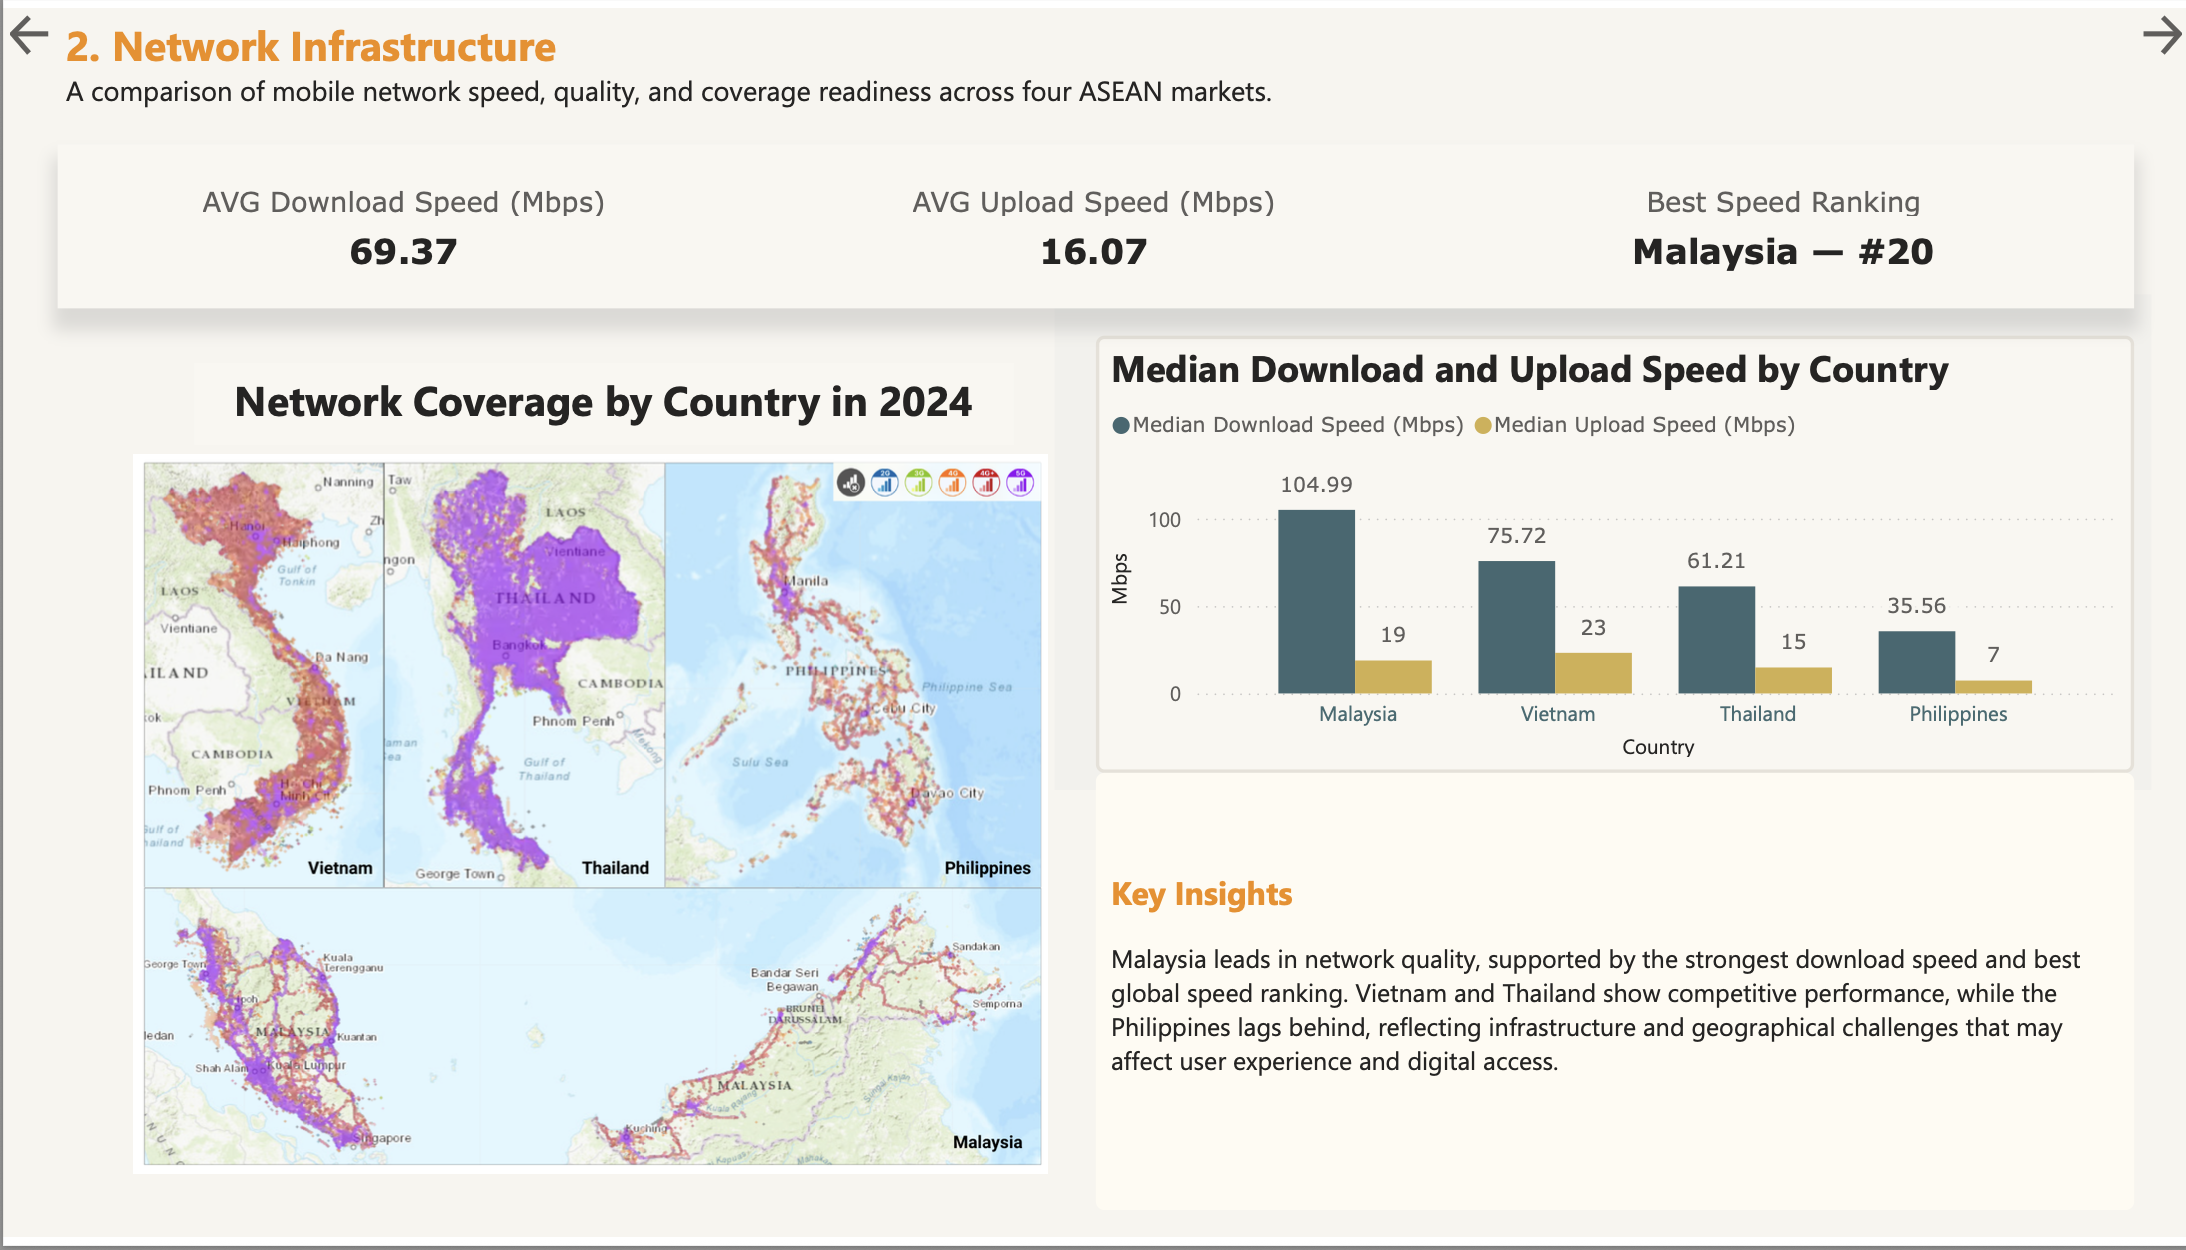

The page's visual inventory and layout, read from the dashboard file:
{"tool":"powerbi","page":{"name":"2. Network Infrastructure","canvas":[1280,720],"ordinal":1},"visuals":[{"type":"lineClusteredColumnComboChart","title":"Median Download and Upload Speed by Country","fields":{"Category":["Market Overview.Country"],"Y":["Sum(Network Quality.Median Download Speed (Mbps))","Sum(Network Quality.Median Upload Speed (Mbps))"]},"box":[640,192,608,256],"z":0},{"type":"cardVisual","fields":{"Data":["Avg(Network Quality.Median Download Speed (Mbps))","Avg(Network Quality.Median Upload Speed (Mbps))","Market Overview.Best Speed Ranking"]},"box":[32,80,1216,96],"z":1000},{"type":"textbox","box":[32,0,848,64],"z":2000},{"type":"textbox","box":[640,448,608,256],"z":3000},{"type":"image","box":[64,256,560,432],"z":4000},{"type":"textbox","box":[112,208,480,48],"z":5000},{"type":"actionButton","box":[0,0,32,32],"z":6001},{"type":"actionButton","box":[1248,0,32,32],"z":6002}]}

Visuals, with their boxes in screenshot pixels (x1, y1, x2, y2), scaled from the page's 1280x720 canvas onto the 2186x1250 screenshot:
"Median Download and Upload Speed by Country" lineClusteredColumnComboChart: (left=1093, top=333, right=2131, bottom=778)
cardVisual - Avg(Network Quality.Median Download Speed (Mbps)) x Avg(Network Quality.Median Upload Speed (Mbps)): (left=55, top=139, right=2131, bottom=306)
textbox: (left=55, top=0, right=1503, bottom=111)
textbox: (left=1093, top=778, right=2131, bottom=1222)
image: (left=109, top=444, right=1066, bottom=1194)
textbox: (left=191, top=361, right=1011, bottom=444)
actionButton: (left=0, top=0, right=55, bottom=56)
actionButton: (left=2131, top=0, right=2185, bottom=56)
